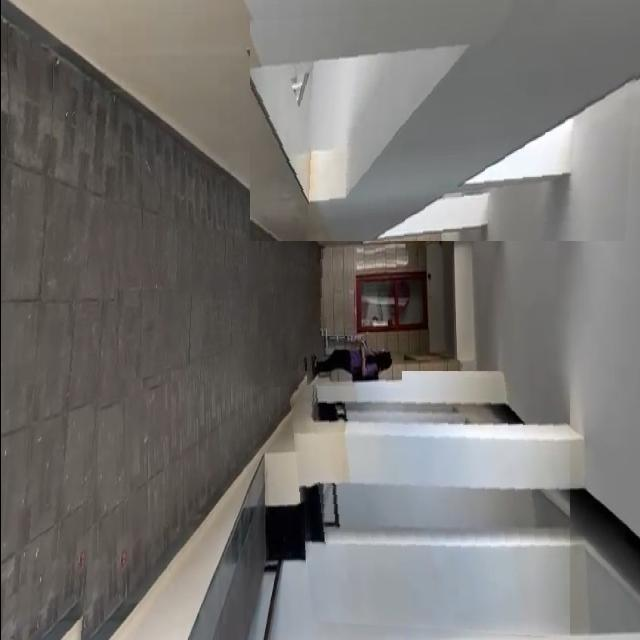floor: (0, 96, 128, 640), (112, 230, 328, 389)
moving_object: (305, 336, 401, 388)
wall: (249, 0, 640, 241), (284, 371, 569, 640)
